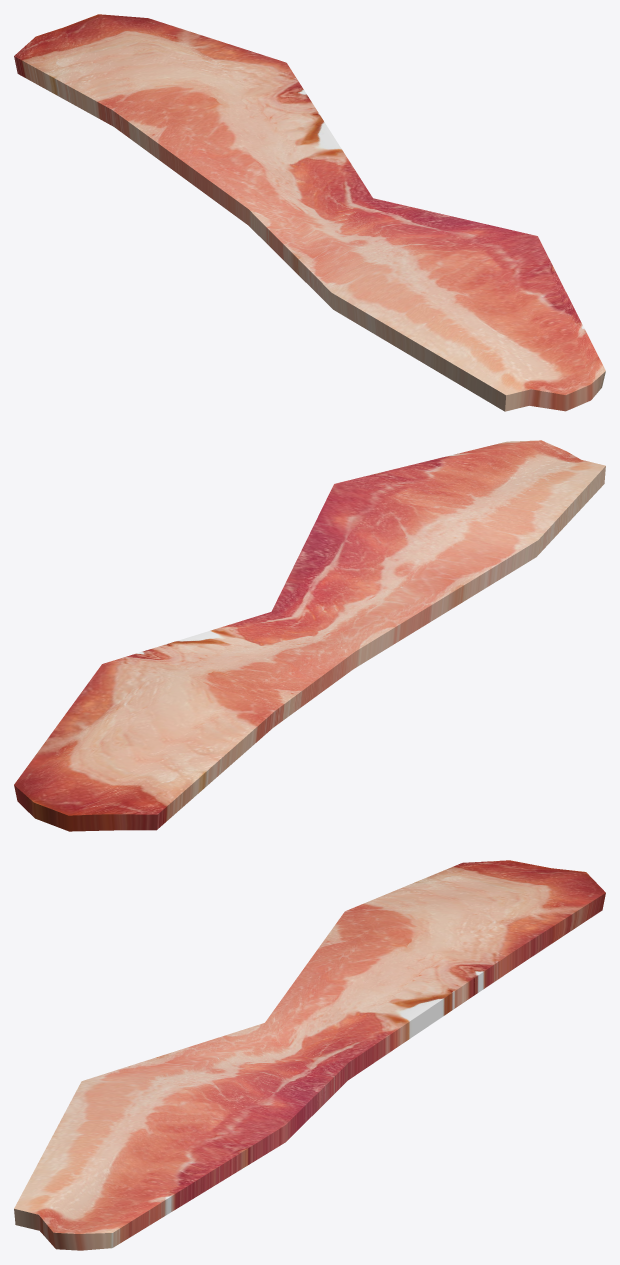
File: baconB.FBX
The picture shows the model from 3 angles, top to bottom: view 1: azimuth 30°, elevation 25°; view 2: azimuth 150°, elevation 25°; view 3: azimuth 330°, elevation 25°; orthographic projection.
Visible parts, largest first — view 1: baconB; view 2: baconB; view 3: baconB.
Boxes of the visible parts, box(x1,y1,x2,y2) form: baconB: box(14, 14, 605, 411); baconB: box(14, 440, 605, 831); baconB: box(14, 860, 605, 1250).
Bounding box in the file's own units: 0.0613 × 0.0165 × 0.2588.
